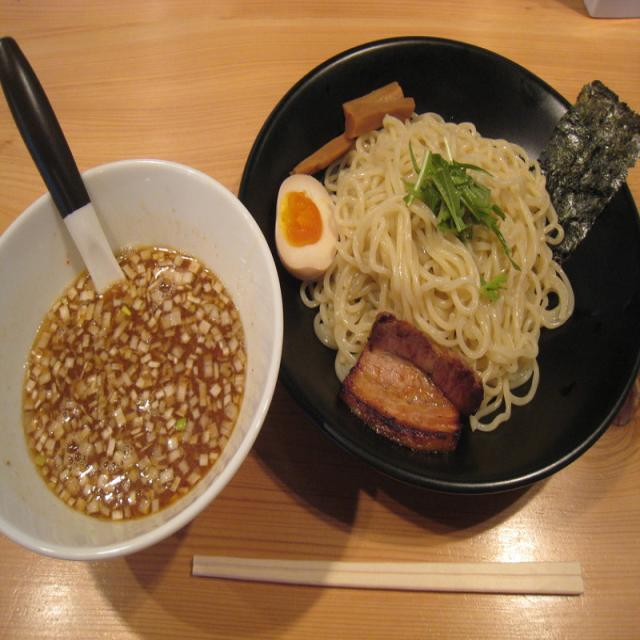面条主食: (21, 118, 570, 550)
